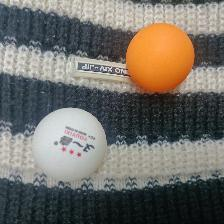WhiteBall: (31, 106, 107, 182)
YellowBall: (124, 22, 194, 92)
